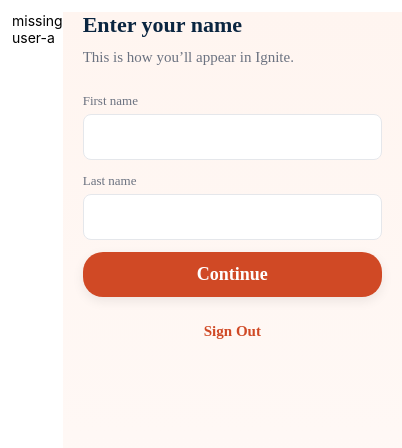
QuizzerNameScreen provisioning › signs out from name onboarding
Expected: the heading "Enter your name" is shown, [83, 12, 242, 37]
Click the button with test id "quizzer-name-sign-out" at (232, 331), box [83, 309, 382, 353]
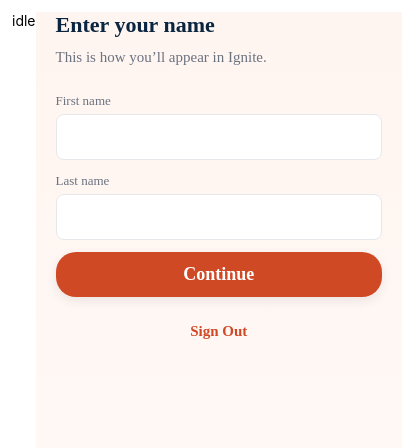
Expected: the text with test id "profile-status" reads "idle", [12, 12, 36, 29]
